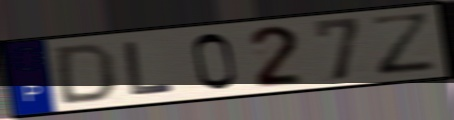0: (190, 31, 238, 92)
2: (247, 23, 305, 90)
7: (311, 15, 364, 83)
D: (55, 41, 118, 107)
L: (121, 39, 179, 98)
Z: (366, 10, 441, 79)
